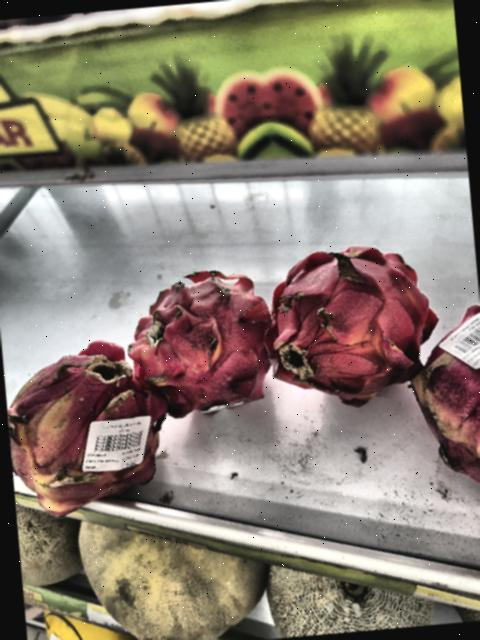buah-naga-belum-matang: (2, 337, 176, 516)
buah-naga-matang: (260, 230, 440, 413), (119, 268, 276, 418), (409, 297, 480, 483)
